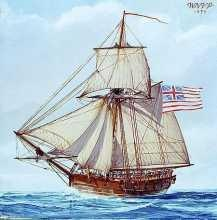fanchuan: (11, 9, 208, 200)
